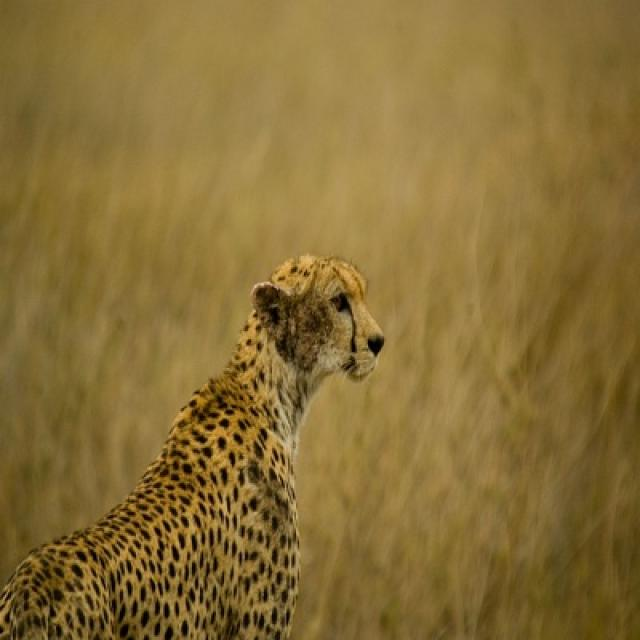Cheetah: (0, 254, 386, 638)
